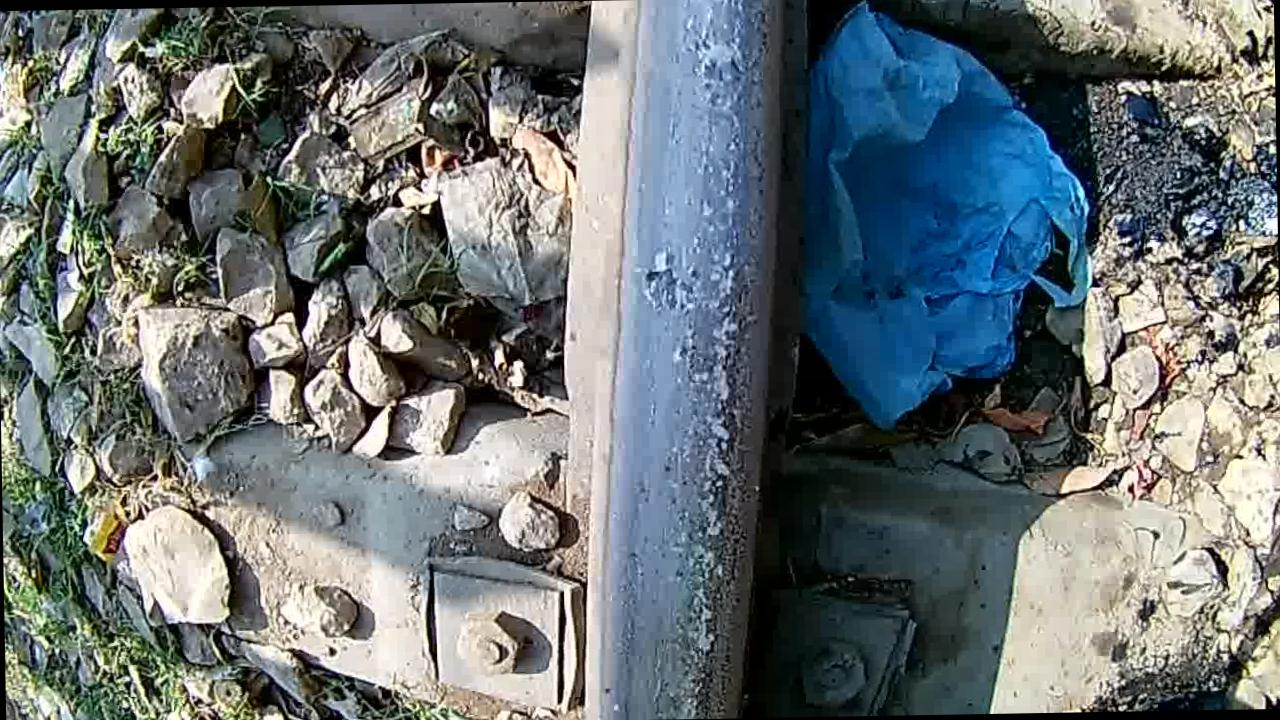crack: (602, 0, 803, 719)
